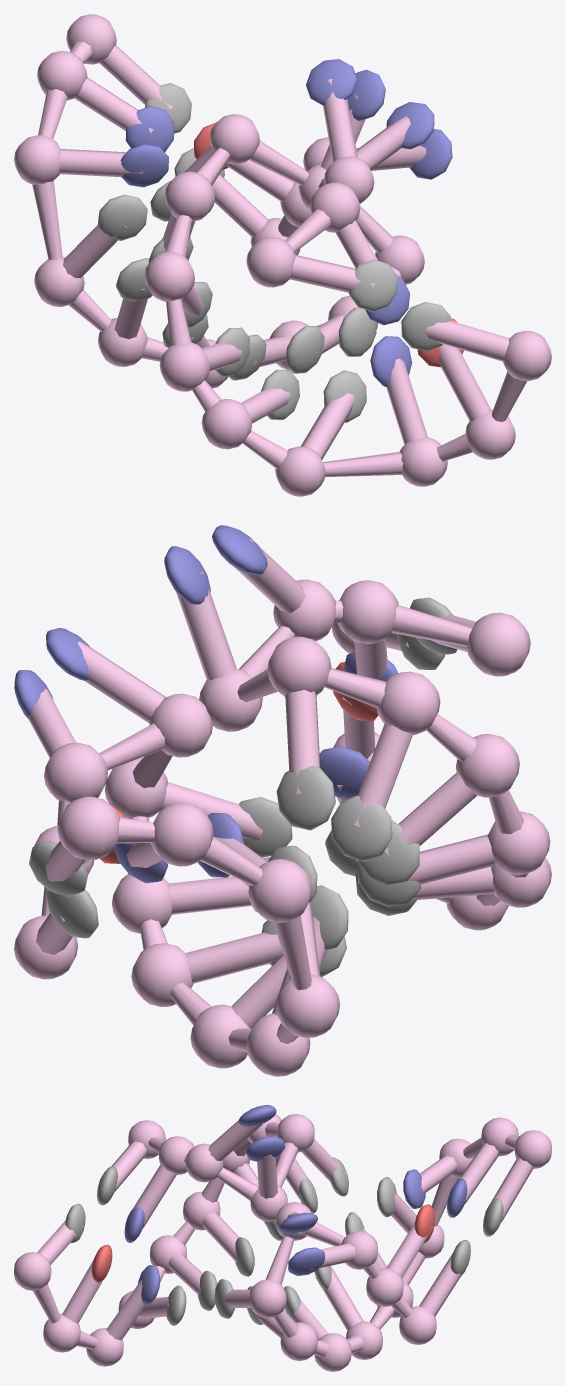
3 views of the same model, one above another, from view 1: azimuth 30°, elevation 25°; view 2: azimuth 150°, elevation 25°; view 3: azimuth 270°, elevation 25° (orthographic). The views are drawn at different scales.
Visible parts, largest first — view 1: backbone_258, backbone_256, connector_252, backbone_264, backbone_257, backbone_259, backbone_255, connector_253, backbone_252, backbone_122, connector_254, nucleoside_264 (+59 smaller); view 2: backbone_264, backbone_120, backbone_121, backbone_122, connector_126, nucleoside_259, backbone_263, backbone_130, backbone_259, backbone_260, backbone_123, backbone_129 (+60 smaller); view 3: backbone_128, backbone_252, backbone_131, backbone_132, backbone_120, backbone_253, backbone_260, backbone_262, connector_120, connector_125, backbone_127, connector_263 (+64 smaller).
Part boxes in pixels (x1,y1,x2,y2): backbone_258: [144, 252, 194, 301]; backbone_256: [201, 399, 252, 449]; connector_252: [425, 320, 509, 361]; backbone_264: [246, 237, 295, 287]; backbone_257: [159, 342, 210, 391]; backbone_259: [164, 171, 214, 221]; backbone_255: [275, 446, 325, 496]; connector_253: [439, 344, 491, 421]; backbone_252: [503, 330, 551, 380]; backbone_122: [14, 135, 61, 184]; connector_254: [386, 358, 427, 444]; nucleoside_264: [349, 259, 397, 311]; backbone_264: [466, 612, 530, 676]; backbone_120: [57, 796, 120, 860]; backbone_121: [151, 802, 213, 866]; backbone_122: [248, 859, 312, 922]; connector_126: [185, 932, 283, 983]; nucleoside_259: [331, 795, 392, 861]; backbone_263: [338, 580, 398, 643]; backbone_130: [44, 742, 107, 802]; backbone_259: [377, 671, 440, 734]; backbone_260: [267, 636, 331, 696]; backbone_123: [276, 974, 339, 1037]; backbone_129: [149, 693, 212, 757]; backbone_128: [249, 1279, 286, 1318]; backbone_252: [14, 1252, 51, 1290]; backbone_131: [366, 1268, 403, 1306]; backbone_132: [399, 1306, 436, 1344]; backbone_120: [514, 1130, 551, 1168]; backbone_253: [43, 1314, 80, 1352]; backbone_260: [277, 1114, 314, 1152]; backbone_262: [186, 1143, 223, 1182]; connector_120: [485, 1158, 532, 1222]; connector_125: [315, 1267, 363, 1330]; backbone_127: [280, 1322, 317, 1360]; connector_263: [127, 1165, 176, 1227].
Size of what is drawn, in the model's own units: 3.19 by 3.11 by 5.5.
